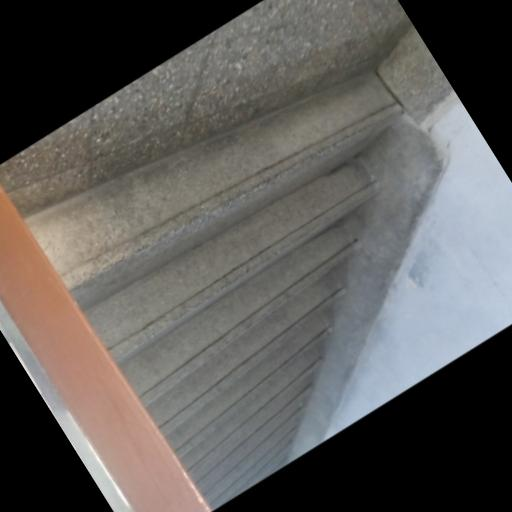stairs: (28, 73, 400, 507)
